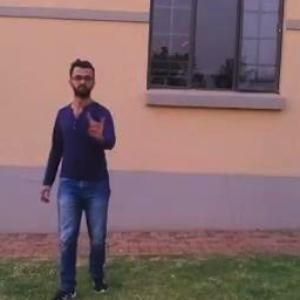takeoff-hand: (84, 103, 112, 142)
